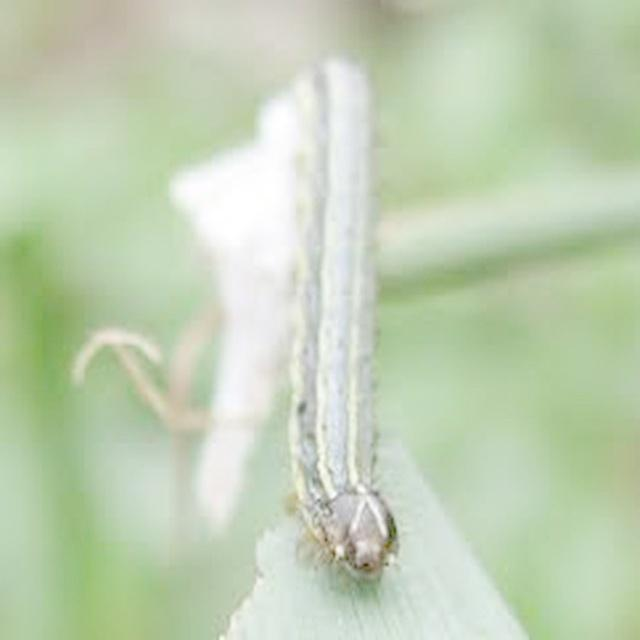gusano_cogollero: (300, 53, 402, 570)
